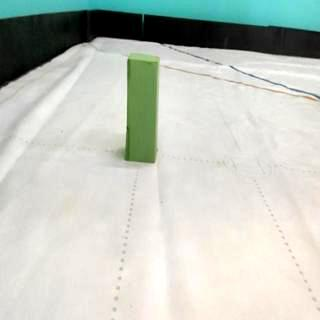greenbox: (123, 50, 163, 165)
